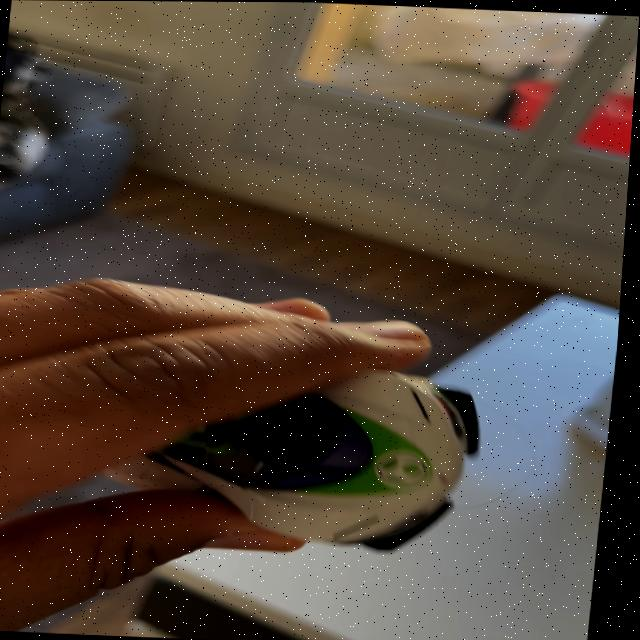yoshi: (118, 348, 519, 564)
